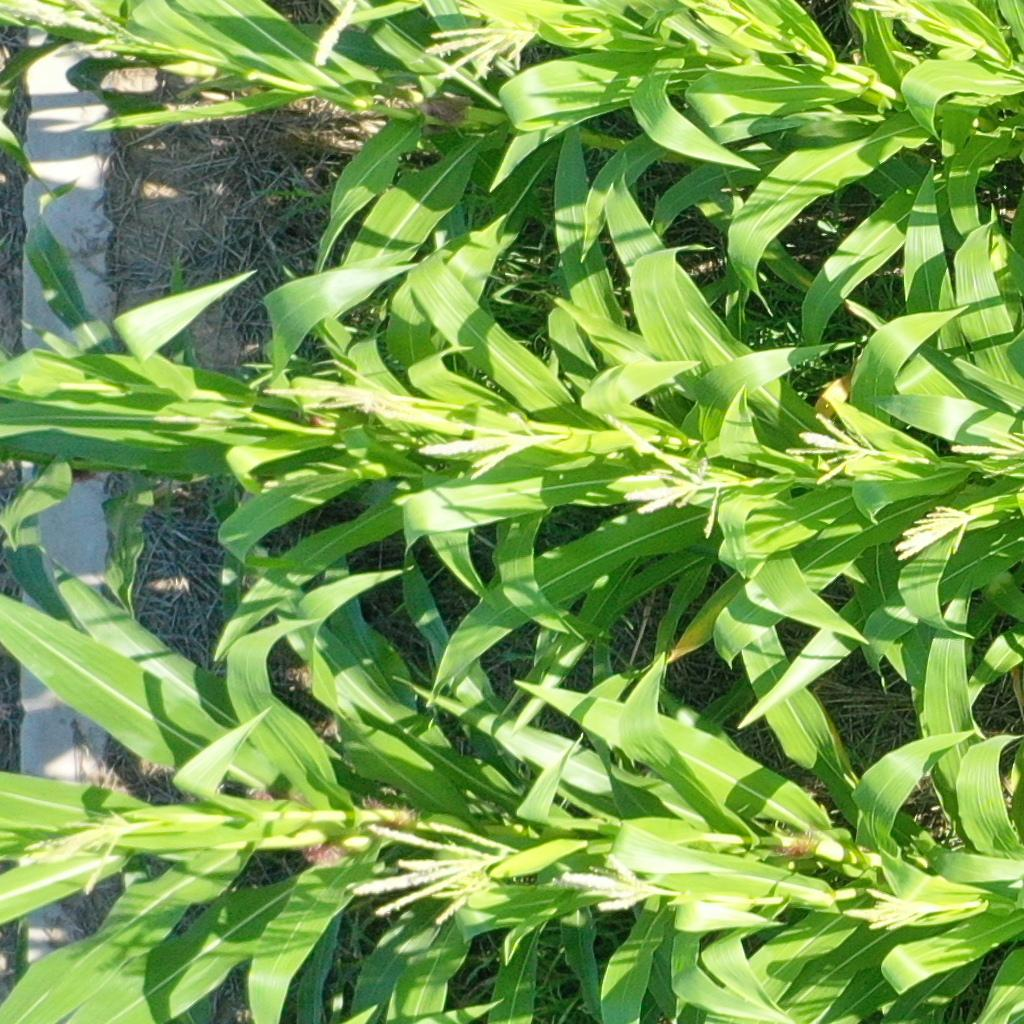Tassel: (345, 817, 526, 928), (605, 413, 734, 534), (16, 805, 143, 897), (419, 1, 542, 83), (420, 409, 549, 480), (262, 367, 414, 427), (783, 404, 879, 483), (1, 1, 138, 52), (559, 850, 660, 915), (887, 499, 973, 563), (834, 885, 943, 933), (312, 1, 377, 69), (953, 426, 1024, 483), (854, 1, 920, 25), (690, 1, 745, 21)
